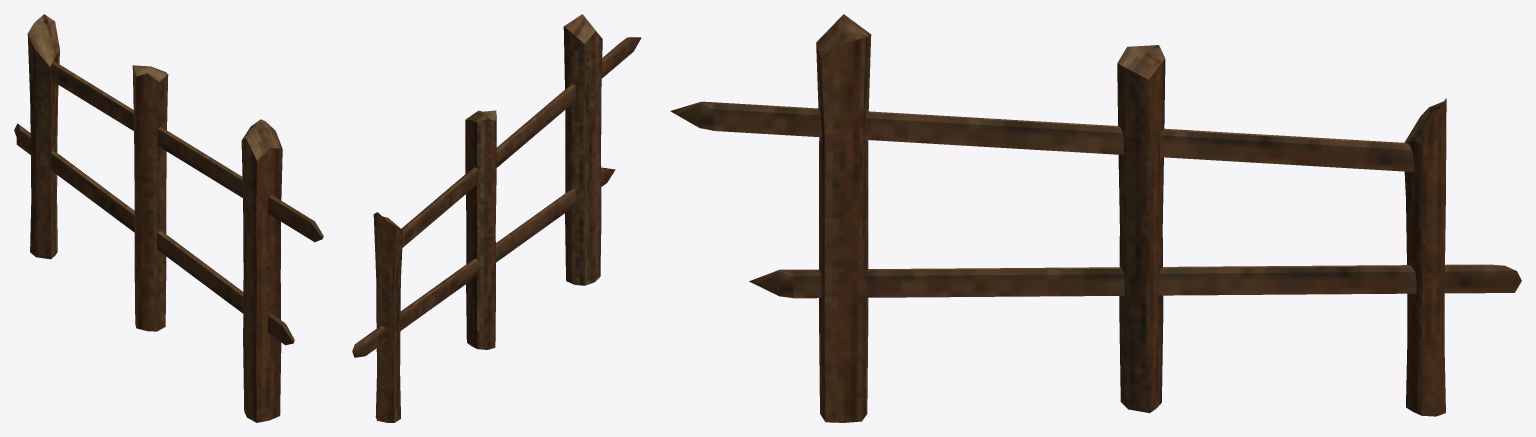
File: Cerca1.fbx
3 renders of one model, left to right at view 1: azimuth 30°, elevation 25°; view 2: azimuth 150°, elevation 25°; view 3: azimuth 270°, elevation 25°, orthographic. The views are drawn at different scales.
Parts seen in each view (by area): view 1: polySurface86; view 2: polySurface86; view 3: polySurface86.
Boxes of the visible parts, box(x1,y1,x2,y2) form: polySurface86: box(14, 14, 323, 422); polySurface86: box(352, 14, 641, 422); polySurface86: box(670, 14, 1521, 422).
Size of the model in its own units: 0.1977 by 1.68 by 3.25.
1 material, 1 textured.
